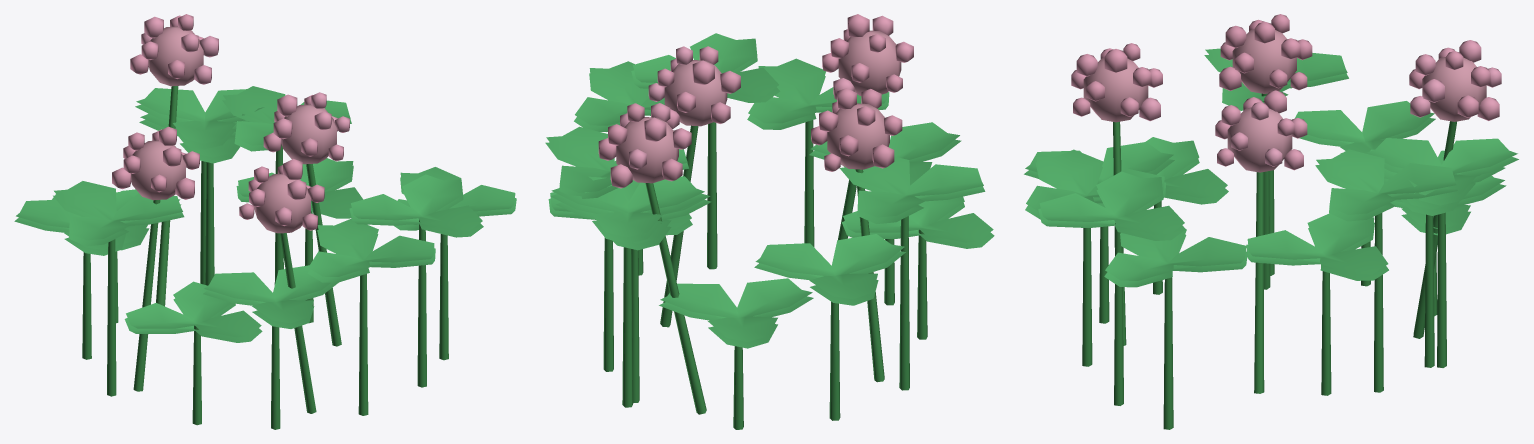
The model's file is ing_clover.gltf.
3 renders of one model, left to right at view 1: azimuth 30°, elevation 25°; view 2: azimuth 150°, elevation 25°; view 3: azimuth 270°, elevation 25°, orthographic. The views are drawn at different scales.
Parts seen in each view (by area): view 1: ing_clover; view 2: ing_clover; view 3: ing_clover.
Part boxes in pixels (x1,y1,x2,y2): ing_clover: (14, 14, 516, 429); ing_clover: (545, 14, 994, 429); ing_clover: (1024, 14, 1518, 429).
Size of what is drawn, in the model's own units: 0.2307 by 0.1539 by 0.2237.
